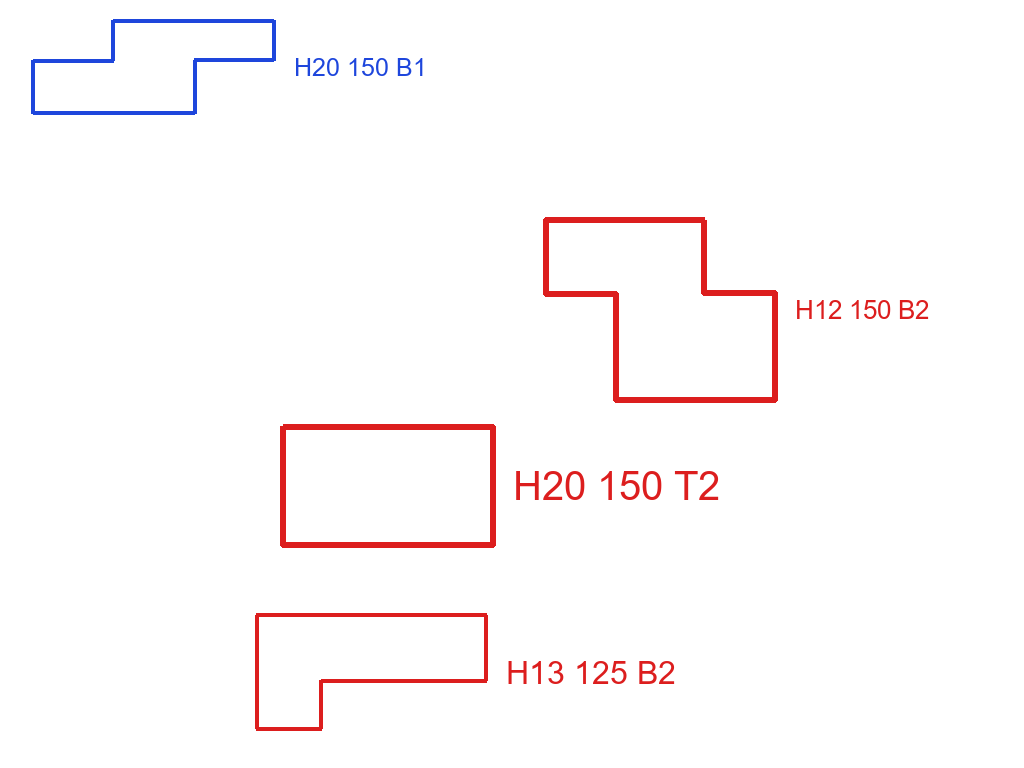shape: (541, 215, 780, 404), (253, 612, 490, 733), (279, 421, 498, 550), (30, 17, 278, 117)
text: (511, 469, 722, 502), (504, 659, 678, 686), (793, 298, 931, 321), (292, 56, 429, 78)
